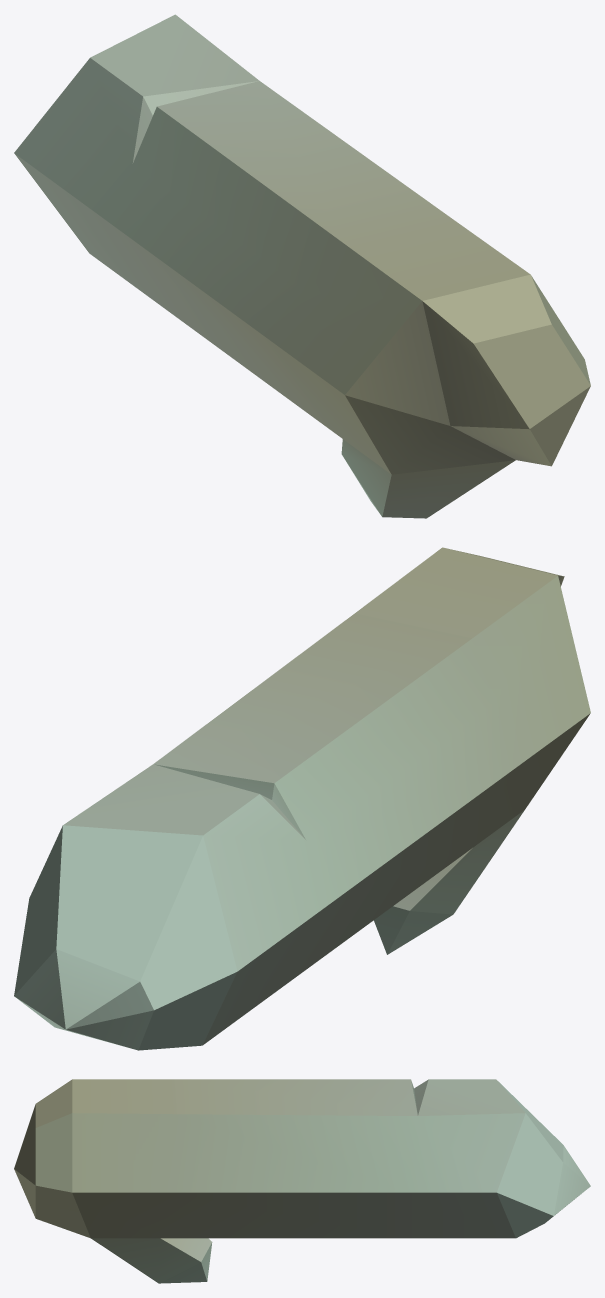
The model's file is ColoredCrystal.012.glb.
The picture shows the model from 3 angles, top to bottom: view 1: azimuth 30°, elevation 25°; view 2: azimuth 150°, elevation 25°; view 3: azimuth 270°, elevation 25°; orthographic projection. The views are drawn at different scales.
Parts seen in each view (by area): view 1: ColoredCrystal.012; view 2: ColoredCrystal.012; view 3: ColoredCrystal.012.
Boxes of the visible parts, left/top/right/bottom form: ColoredCrystal.012: left=14, top=14, right=590, bottom=518; ColoredCrystal.012: left=14, top=547, right=590, bottom=1050; ColoredCrystal.012: left=14, top=1079, right=590, bottom=1283.
Bounding box in the file's own units: 212 × 272 × 767.
